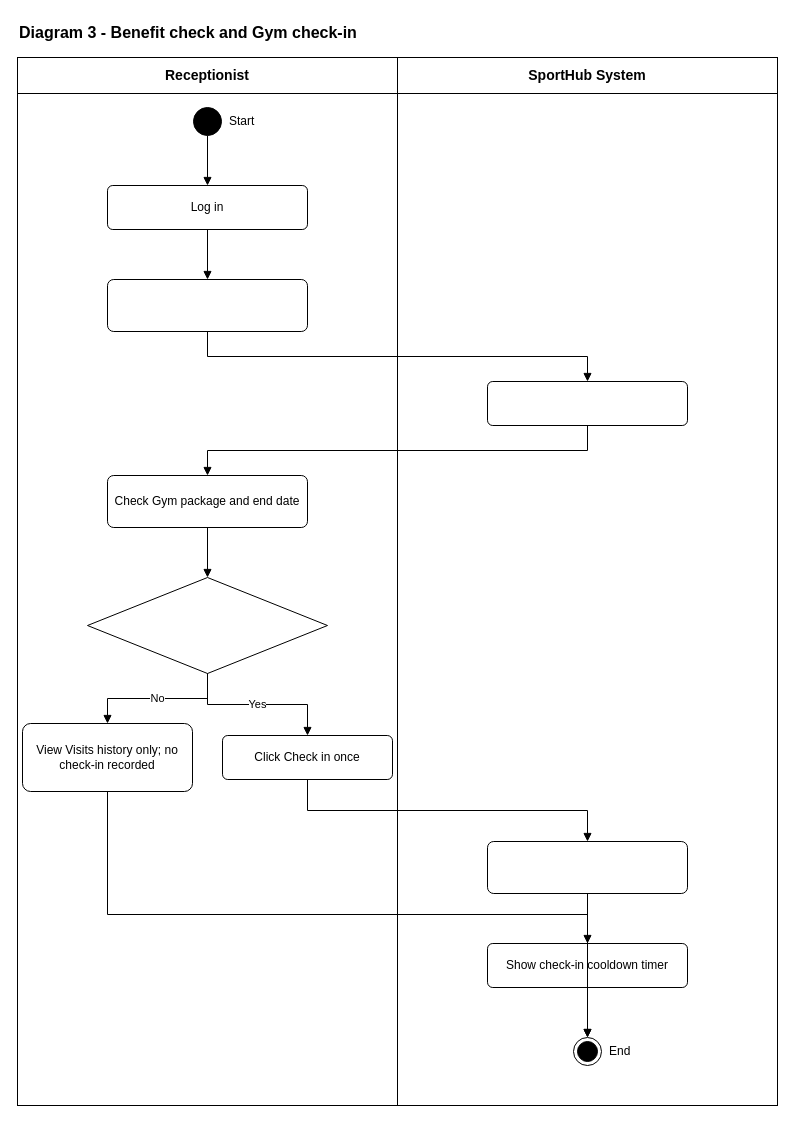
Image size: 795x1123. Some labels were removed from this diagram. Each missing label, with the box of its shape:
Active Gym package and Gym not closed?: (86, 576, 328, 674)
Open Members, search for the Member and open the profile: (106, 278, 308, 332)
Record the visit in the Visits tab: (486, 840, 688, 894)
Show Gym package and end date: (486, 380, 688, 426)
